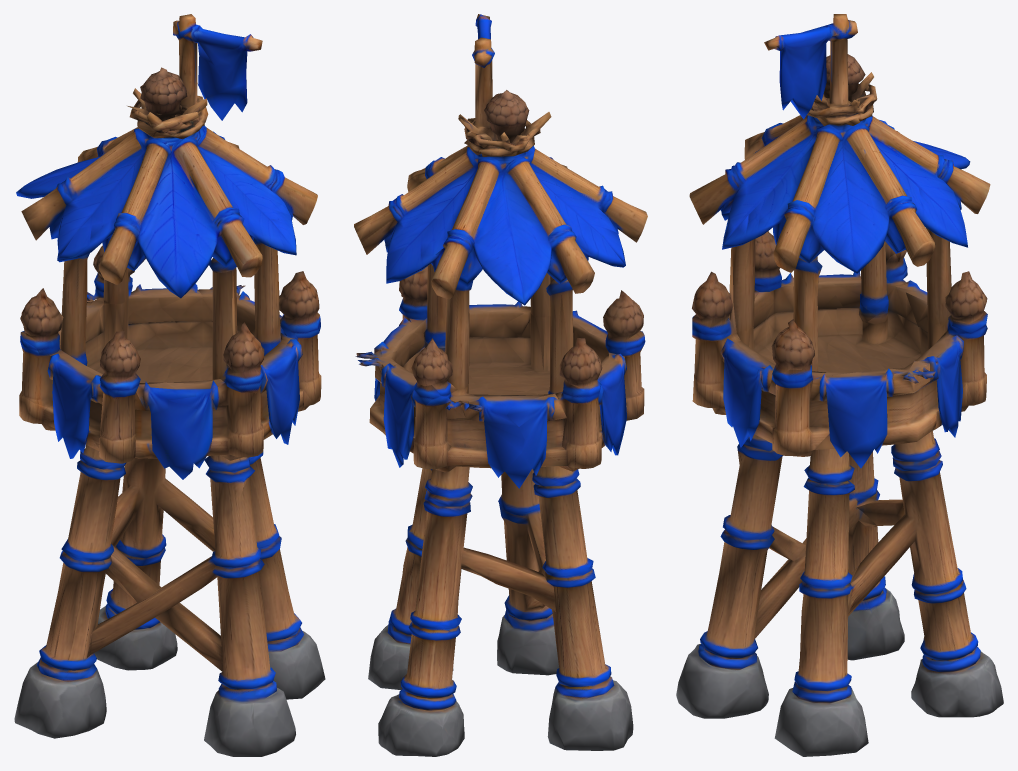
3 views of the same model, side by side, from view 1: azimuth 30°, elevation 25°; view 2: azimuth 150°, elevation 25°; view 3: azimuth 270°, elevation 25° (orthographic). The views are drawn at different scales.
Visible parts, largest first — view 1: colony-watchtower-tripo · evaluated preview mesh; view 2: colony-watchtower-tripo · evaluated preview mesh; view 3: colony-watchtower-tripo · evaluated preview mesh.
Boxes of the visible parts, x1,y1,x2,y2 form: colony-watchtower-tripo · evaluated preview mesh: (14, 14, 325, 756); colony-watchtower-tripo · evaluated preview mesh: (354, 14, 647, 756); colony-watchtower-tripo · evaluated preview mesh: (676, 14, 1003, 756).
Size of the model in its own units: 5.42 by 12.67 by 5.5.
Materials: 1 (1 with a texture image).
